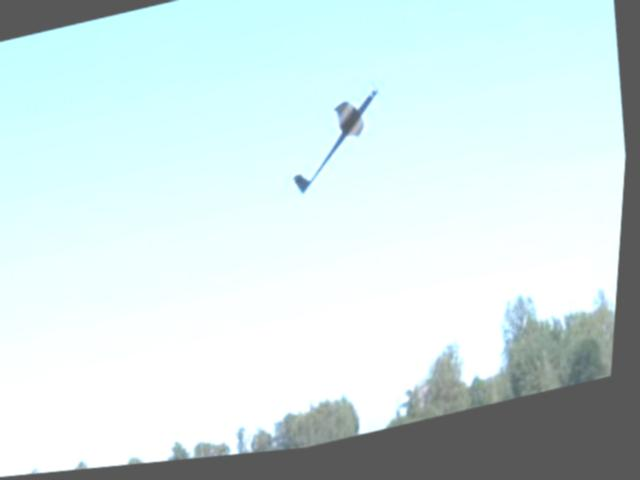uav: (283, 86, 392, 205)
